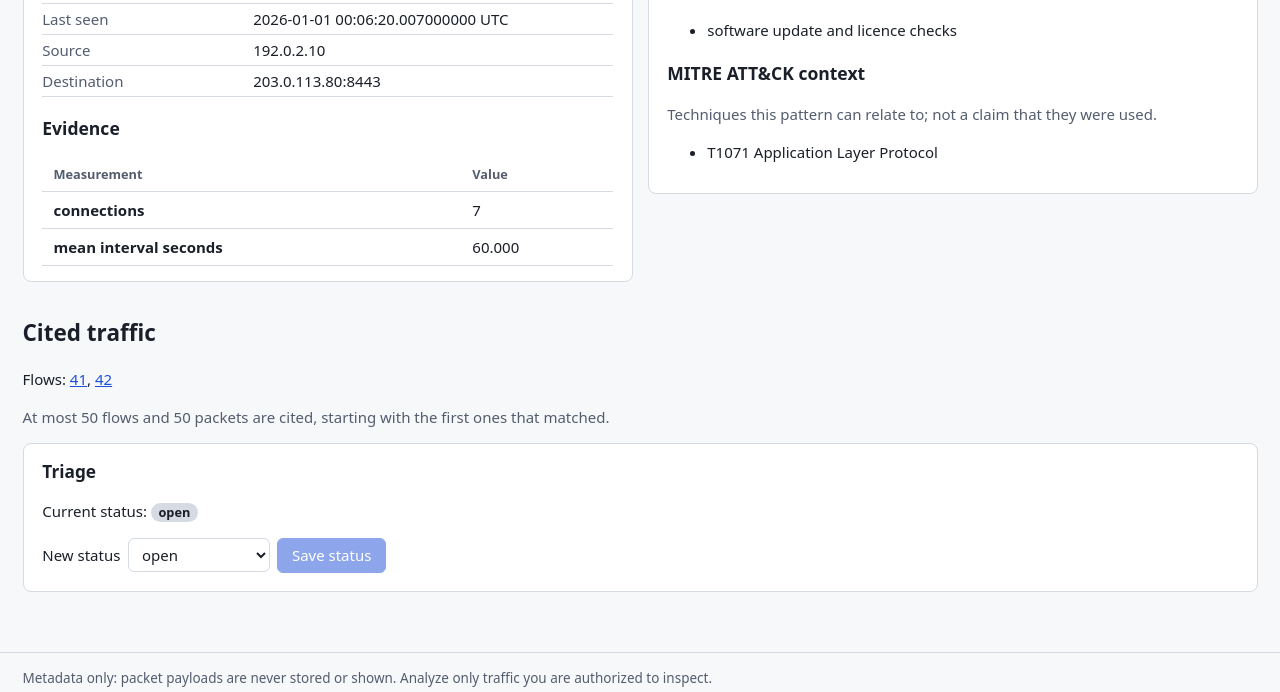
Scenario: Roles › sends the CSRF token with changes, not with reads
(page scrolled)
Select "resolved" in the dropdown labelled "New status": (199, 555) [128,538,270,572]
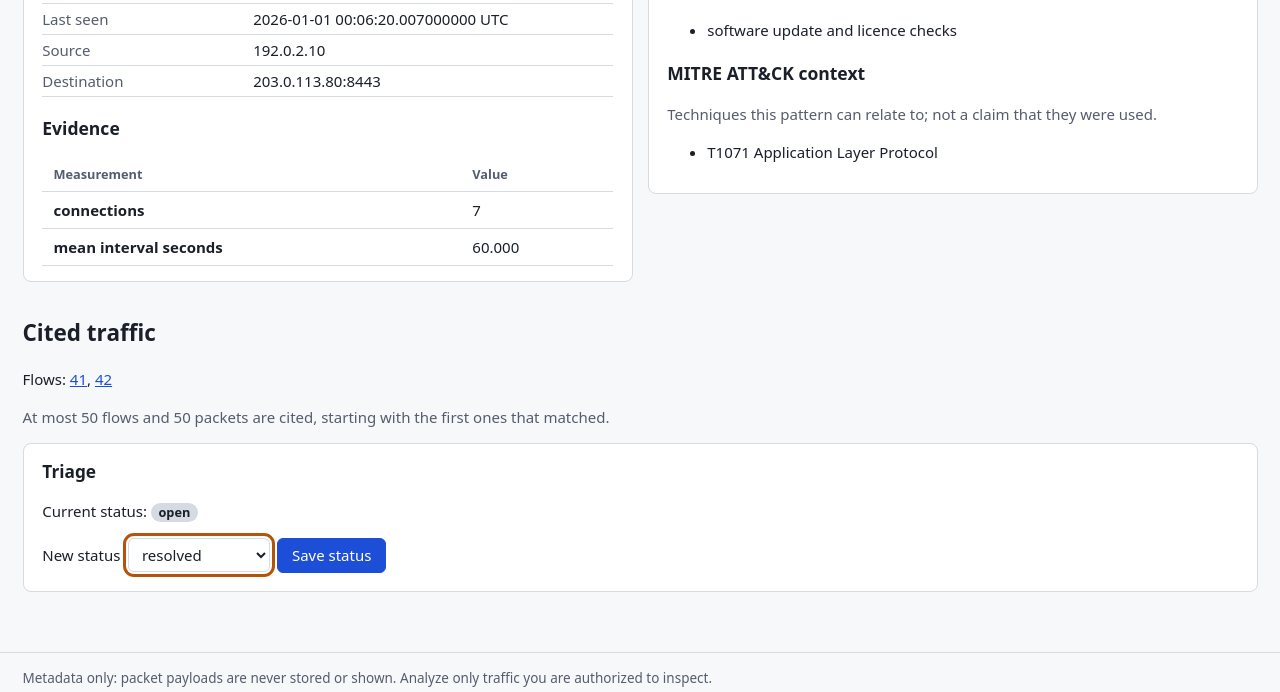
Click the button "Save status": (332, 555) [277,538,386,573]
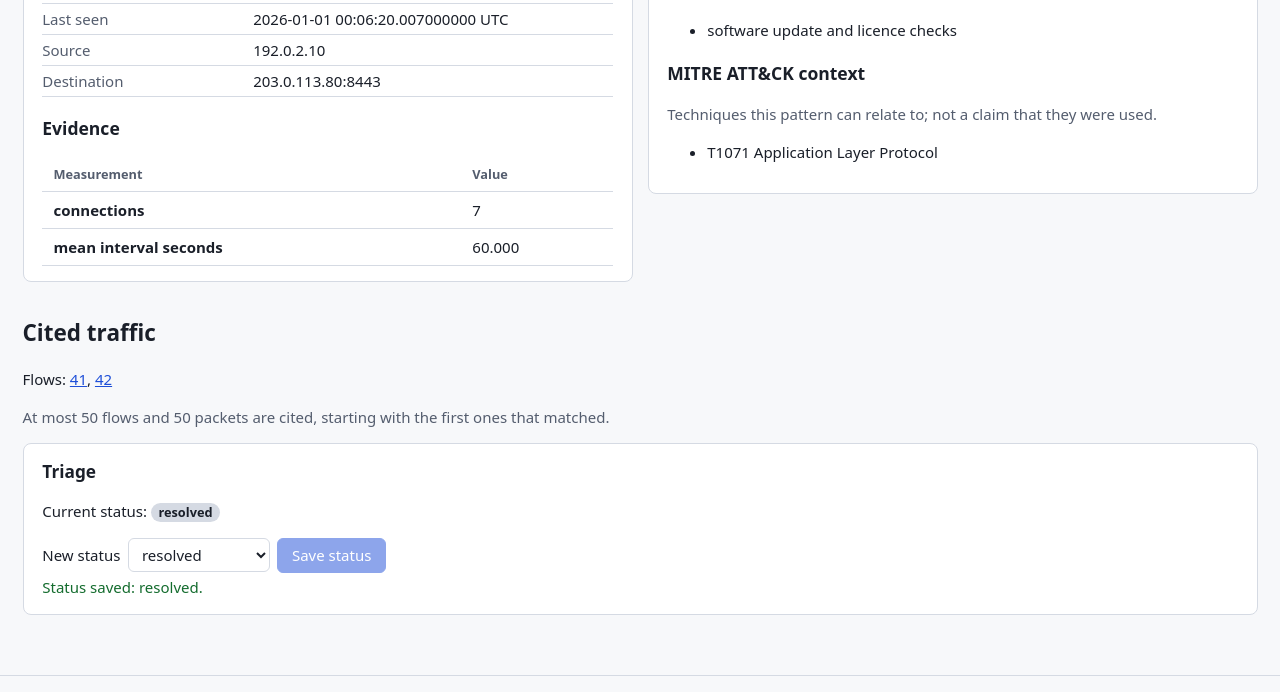
Expected: the text "Status saved: resolved." is shown, [42,577,203,597]
